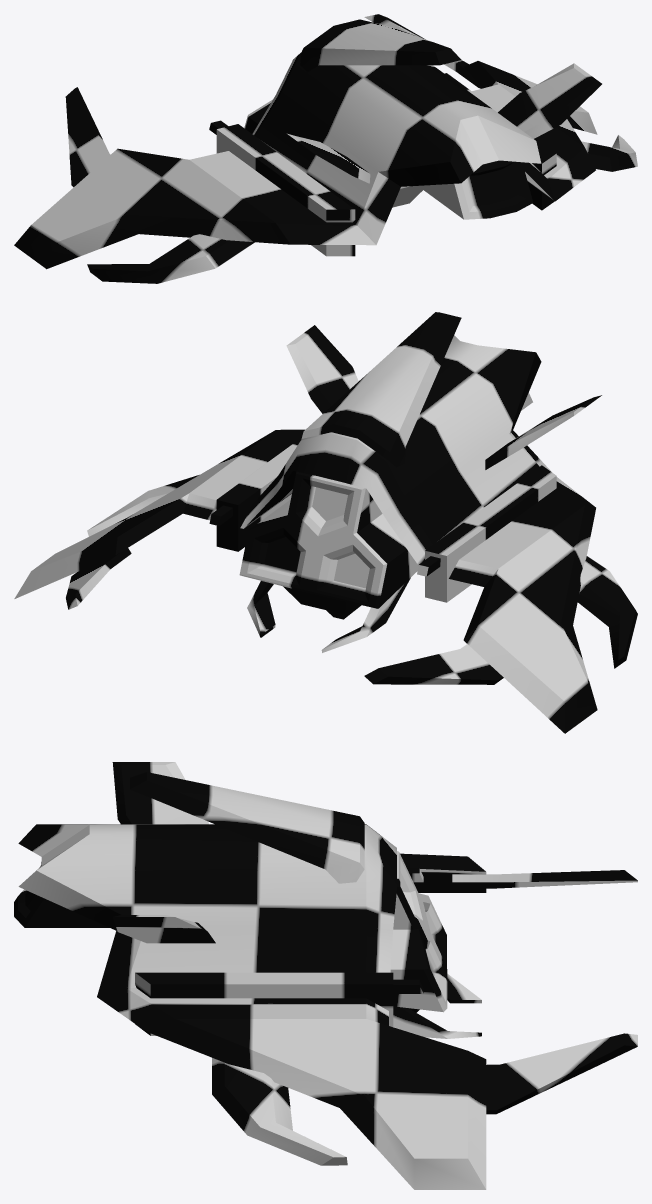
File: pet_cyborg.obj
3 views of the same model, one above another, from view 1: azimuth 30°, elevation 25°; view 2: azimuth 150°, elevation 25°; view 3: azimuth 270°, elevation 25° (orthographic). The views are drawn at different scales.
Parts seen in each view (by area): view 1: cyborg_pet_lowpoly; view 2: cyborg_pet_lowpoly; view 3: cyborg_pet_lowpoly.
Boxes of the visible parts, x1=… form: cyborg_pet_lowpoly: x1=14, y1=14, x2=637, y2=283; cyborg_pet_lowpoly: x1=14, y1=312, x2=637, y2=733; cyborg_pet_lowpoly: x1=14, y1=762, x2=637, y2=1189.
Size of the model in its own units: 44.11 by 18.38 by 39.18.
Materials: 1 (1 with a texture image).
